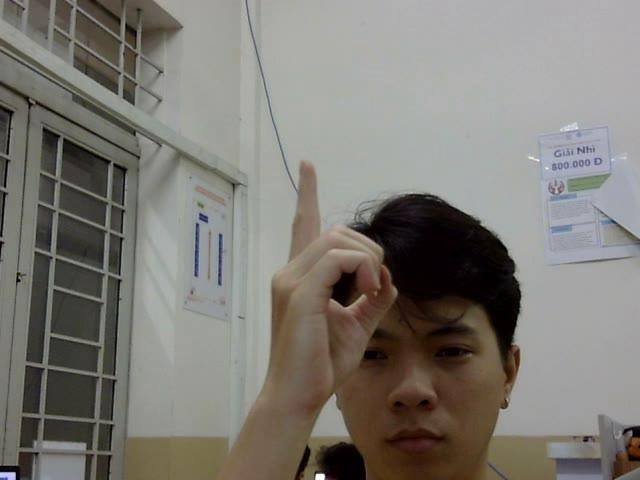D: (265, 156, 397, 403)
